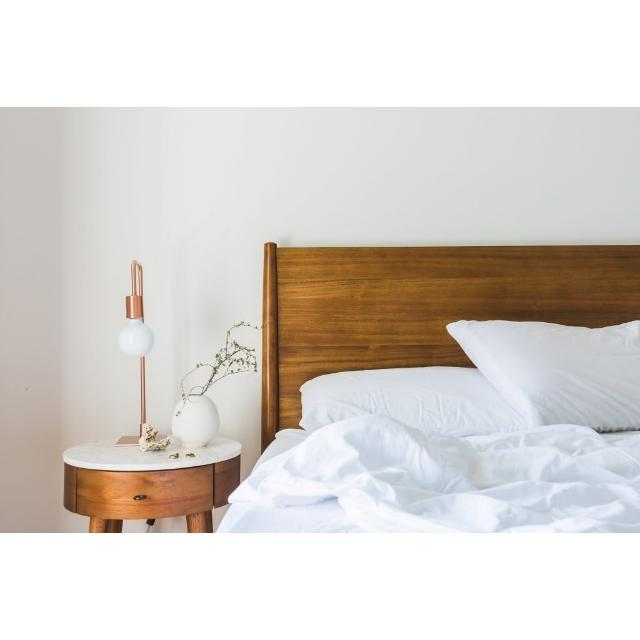pillow: (447, 318, 639, 437), (300, 367, 527, 441)
